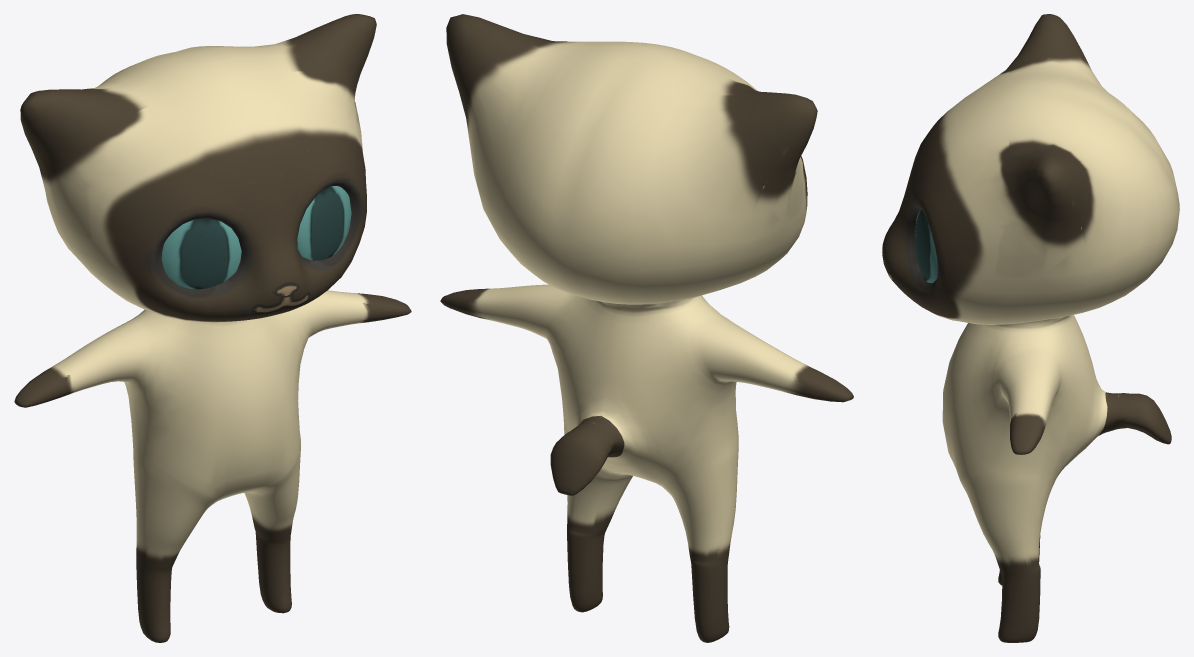
File: GATO.fbx
3 renders of one model, left to right at view 1: azimuth 30°, elevation 25°; view 2: azimuth 150°, elevation 25°; view 3: azimuth 270°, elevation 25°, orthographic. The views are drawn at different scales.
Parts seen in each view (by area): view 1: GATO; view 2: GATO; view 3: GATO.
Boxes of the visible parts, box(x1,y1,x2,y2) form: GATO: box(14, 14, 411, 642); GATO: box(440, 14, 853, 642); GATO: box(882, 14, 1179, 642).
Bounding box in the file's own units: 200 × 270 × 139.
Materials: 2 (2 with a texture image).
